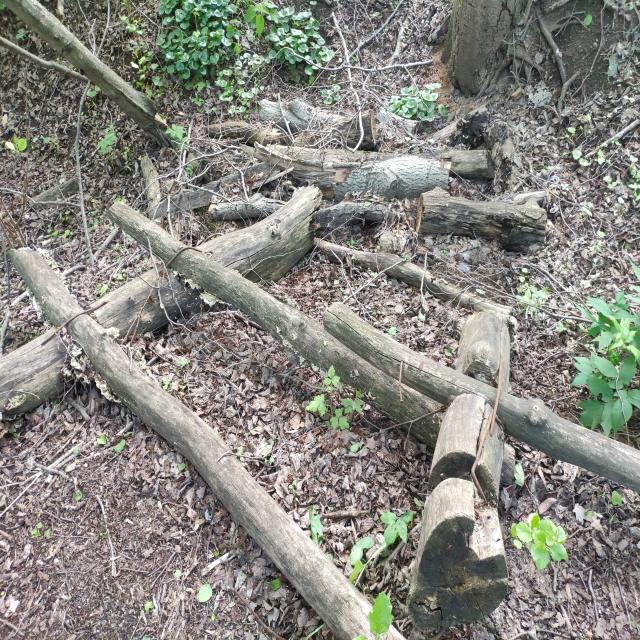restos de madeira: (70, 330, 247, 521), (329, 299, 464, 455), (422, 392, 507, 634), (438, 122, 558, 254), (191, 185, 326, 300), (382, 354, 487, 439), (413, 186, 539, 250), (203, 267, 310, 341), (423, 268, 525, 335), (512, 318, 582, 407), (106, 200, 191, 270), (2, 326, 72, 409), (4, 252, 85, 323), (400, 503, 440, 637), (320, 240, 424, 290), (0, 30, 90, 85), (576, 359, 640, 435), (461, 304, 512, 398), (1, 467, 70, 521), (579, 302, 640, 360), (225, 585, 289, 640), (146, 142, 227, 179), (226, 156, 304, 194), (312, 200, 398, 234), (577, 120, 638, 162), (312, 111, 374, 152), (316, 57, 424, 80), (365, 534, 407, 589), (216, 191, 288, 222), (155, 186, 222, 217), (20, 74, 32, 235), (516, 301, 590, 325), (474, 58, 512, 103), (96, 492, 117, 573), (0, 280, 34, 330), (508, 46, 550, 86), (376, 105, 424, 140), (155, 285, 187, 336), (444, 150, 492, 183), (329, 10, 352, 71), (276, 89, 300, 146), (139, 121, 177, 156), (140, 153, 160, 217), (423, 112, 459, 146), (556, 70, 584, 113), (89, 225, 120, 258), (513, 2, 539, 41), (614, 569, 632, 625), (551, 12, 592, 35), (30, 463, 70, 483), (30, 198, 86, 212), (588, 567, 600, 628), (319, 509, 370, 522), (536, 626, 580, 640), (0, 304, 11, 352), (39, 233, 69, 249), (60, 264, 87, 278), (115, 419, 136, 437), (552, 559, 560, 593)
